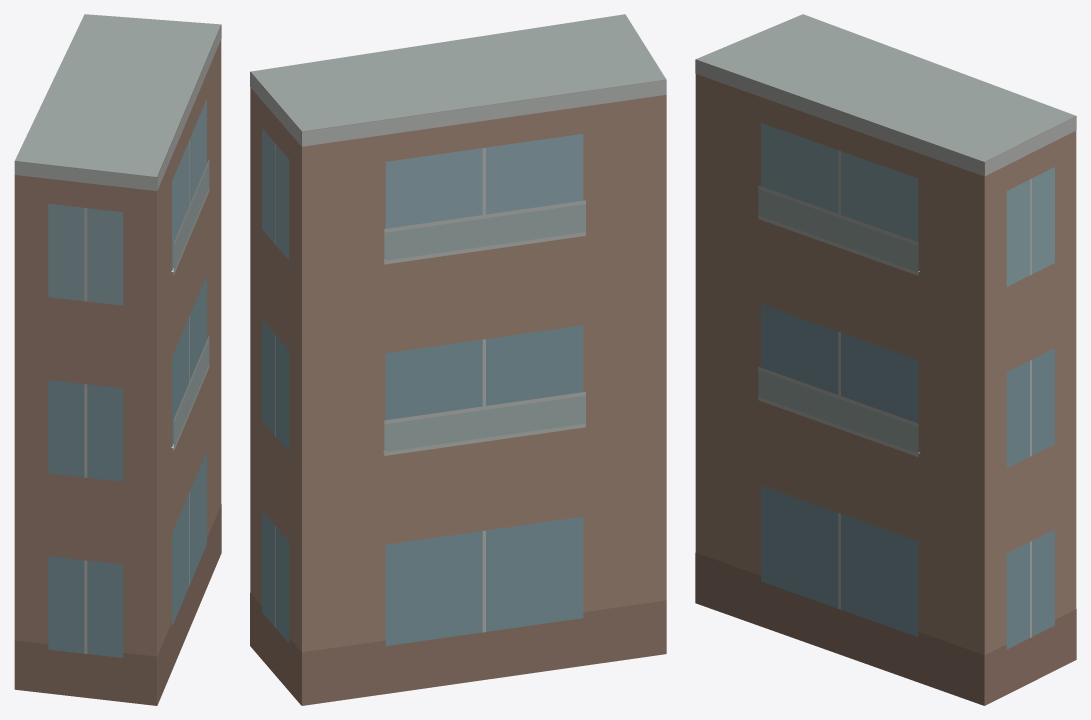
Rendered from survey-upis-33047174.glb.
3 views of the same model, side by side, from view 1: azimuth 30°, elevation 25°; view 2: azimuth 150°, elevation 25°; view 3: azimuth 270°, elevation 25° (orthographic). The views are drawn at different scales.
Visible parts, largest first — view 1: survey-upis-33047174.tmp; view 2: survey-upis-33047174.tmp; view 3: survey-upis-33047174.tmp.
Part boxes in pixels (x1=…): survey-upis-33047174.tmp: x1=14, y1=14, x2=221, y2=705; survey-upis-33047174.tmp: x1=250, y1=14, x2=666, y2=705; survey-upis-33047174.tmp: x1=695, y1=14, x2=1076, y2=705.
Bounding box in the file's own units: 5.35 × 9.15 × 5.82.
